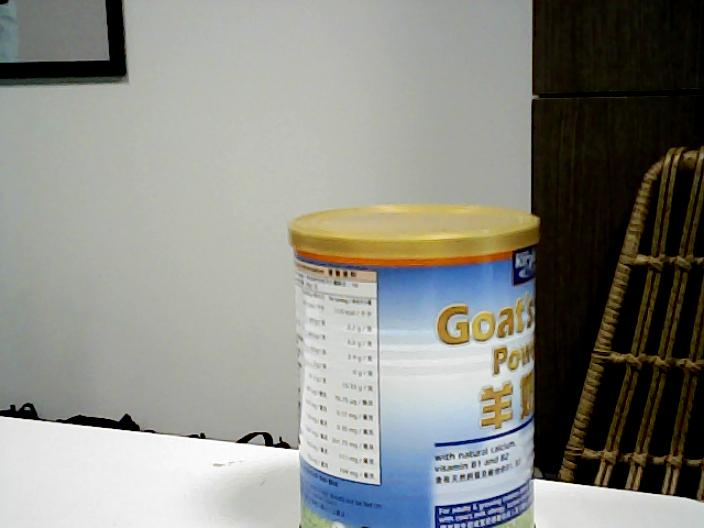Babymilk-powder_400-499g_Halal_NonHealthy: (299, 210, 532, 528)
